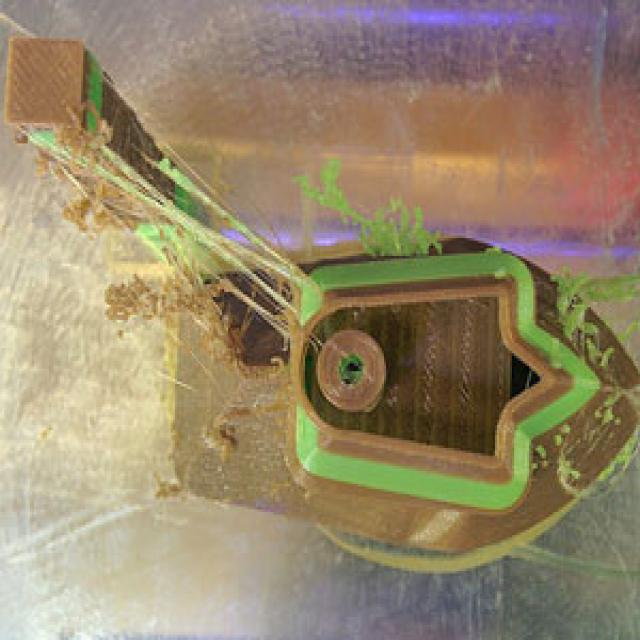Stringing: (85, 119, 302, 315)
